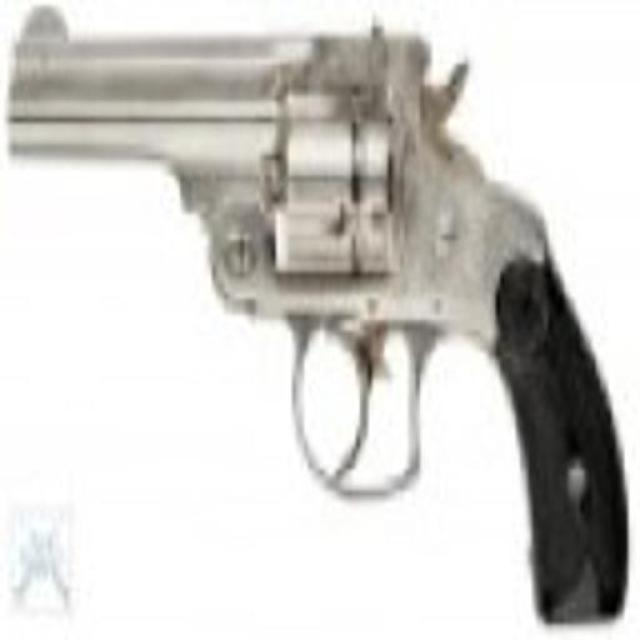pistol: (15, 10, 624, 617)
